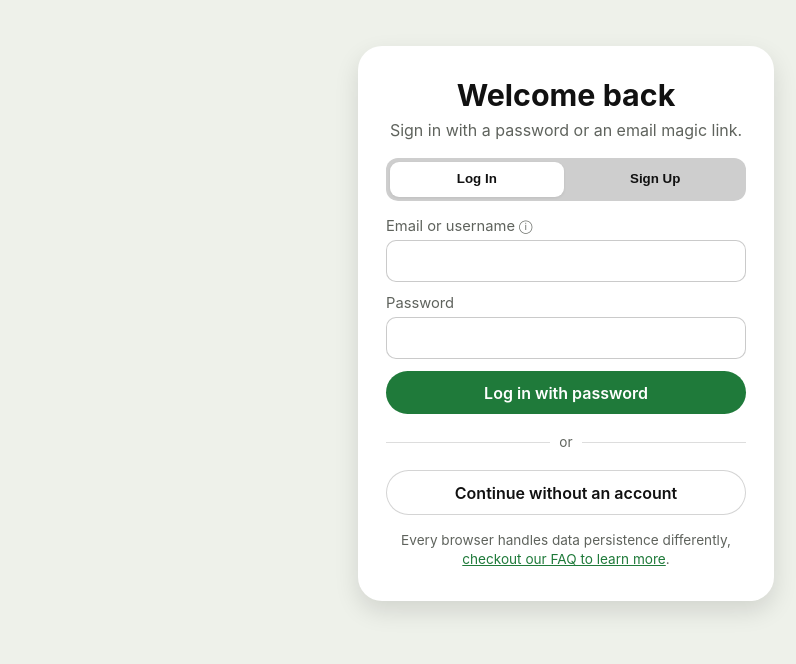
Test: AuthTabs — forgot-password panel › keeps the panel open and surfaces the error on failure
In the field labelled "Email or username ⓘ": (566, 261) [386, 240, 746, 282], type "alice@example.com"
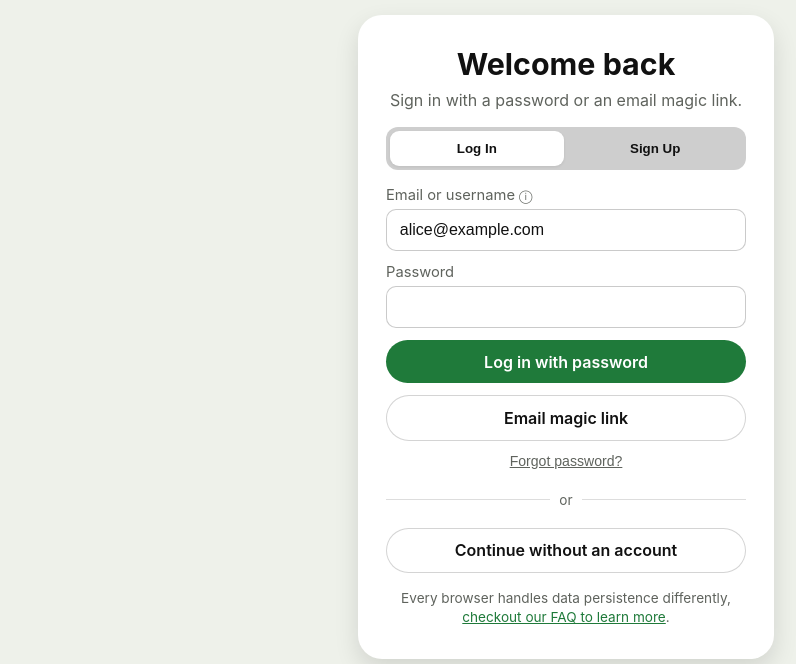
Click the button "Forgot password?": (566, 460) [503, 449, 629, 472]
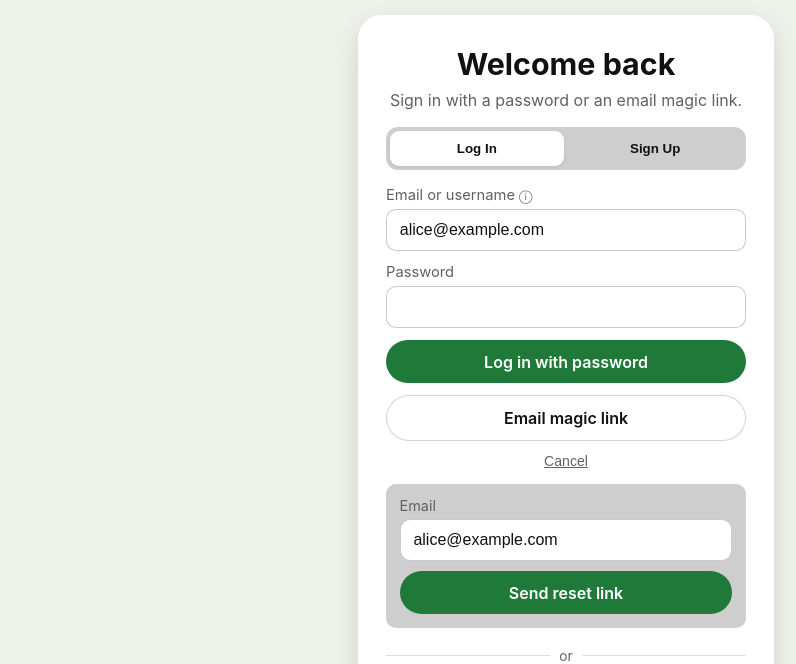
Click the button "Send reset link": (566, 592) [400, 571, 732, 614]
(page scrolled)
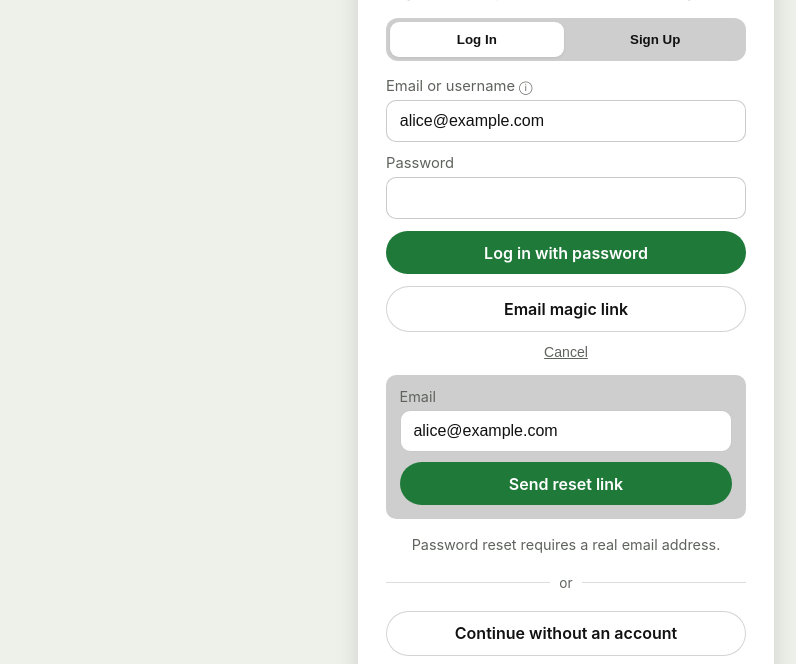
Expected: the element with id "forgot-panel" is shown, [386, 375, 746, 519]
Expected: the element with id "host" shows "Password reset requires a real email", [412, 536, 720, 553]
